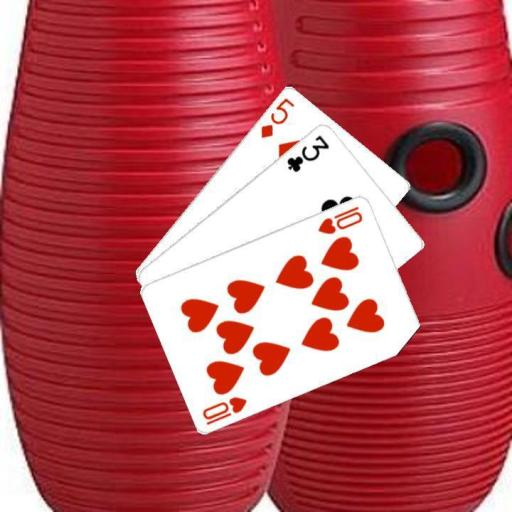card-corner: (283, 131, 331, 173), (258, 94, 296, 139), (199, 392, 249, 426), (315, 203, 364, 235)
